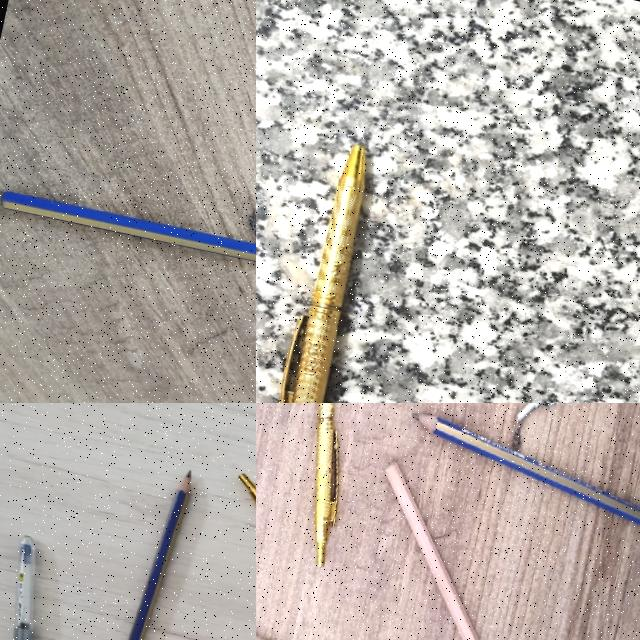pen: (0, 534, 71, 640)
pencil: (400, 410, 640, 538), (2, 191, 255, 260), (385, 461, 479, 640), (102, 463, 190, 640)
signature pen: (280, 145, 365, 402), (263, 403, 382, 567)
